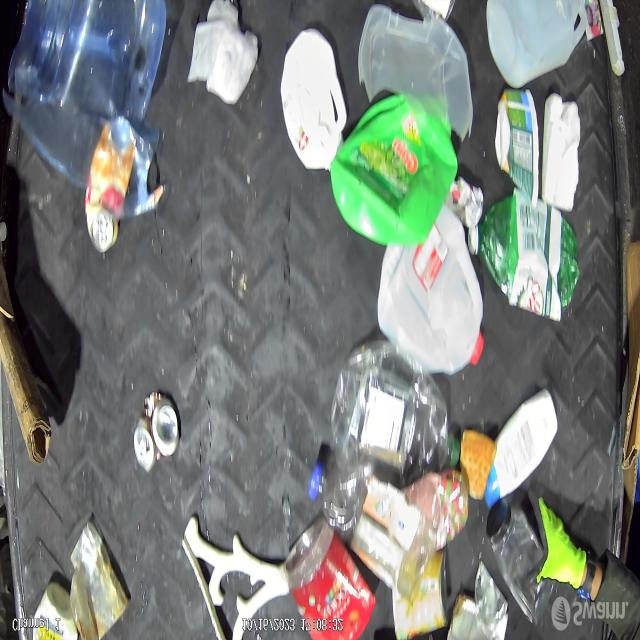can: (85, 122, 144, 246), (391, 549, 450, 640), (131, 398, 183, 469)
milk_jug: (386, 222, 477, 378), (485, 0, 588, 95), (280, 34, 342, 175)
non_white_jug: (325, 91, 457, 253)
plastic_bottle: (328, 343, 461, 475), (301, 460, 412, 591), (466, 195, 580, 319)
